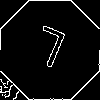L: (25, 25, 68, 77)
